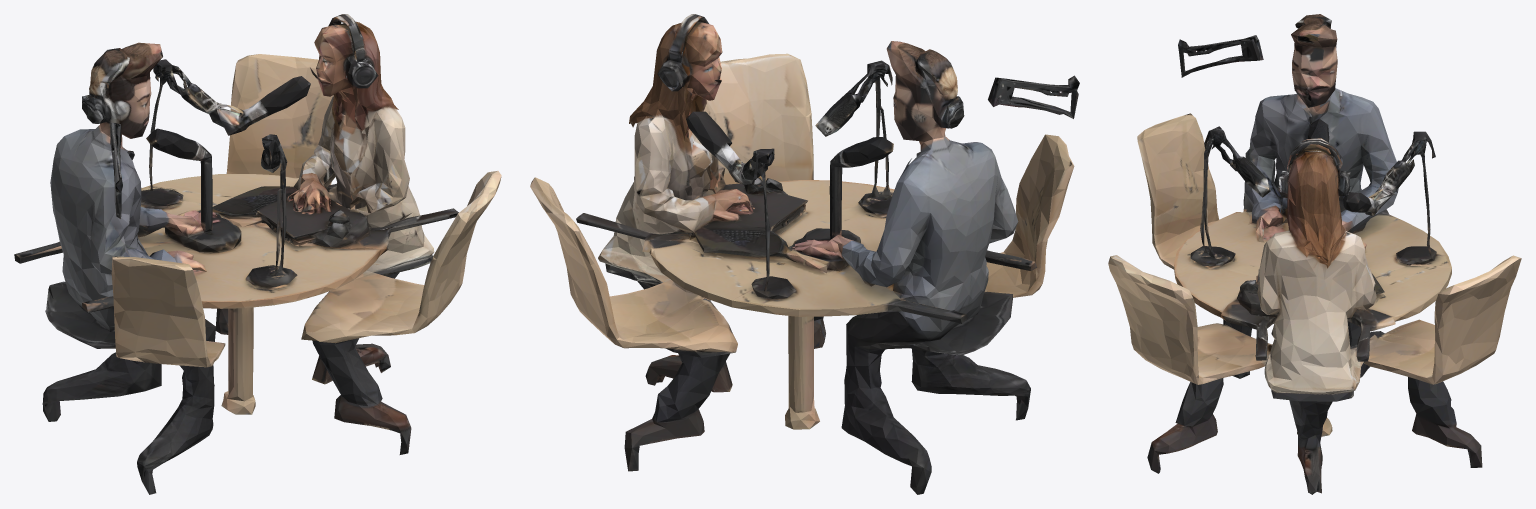
The model's file is studio_environment.fbx.
The picture shows the model from 3 angles, left to right: view 1: azimuth 30°, elevation 25°; view 2: azimuth 150°, elevation 25°; view 3: azimuth 270°, elevation 25°; orthographic projection. The views are drawn at different scales.
Parts seen in each view (by area): view 1: temp; view 2: temp; view 3: temp.
Part boxes in pixels (x1,y1,x2,y2): temp: [14, 14, 501, 494]; temp: [530, 14, 1079, 494]; temp: [1108, 14, 1521, 494].
Bounding box in the file's own units: 200 × 194 × 200.
1 material, 1 textured.
